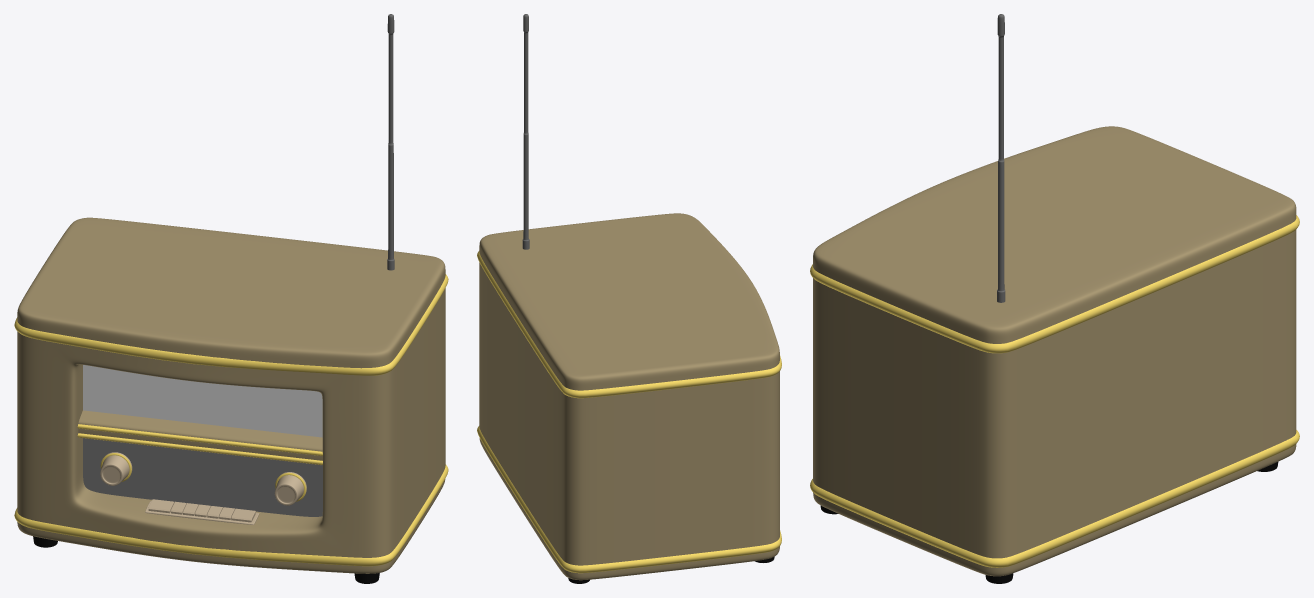
The model's file is RadioModelSketchfab.fbx.
3 renders of one model, left to right at view 1: azimuth 30°, elevation 25°; view 2: azimuth 150°, elevation 25°; view 3: azimuth 270°, elevation 25°, orthographic. The views are drawn at different scales.
Parts seen in each view (by area): view 1: mainbody, planeunten, planetop, mittelstange, ringoben, ringunten, Cylinder001, knöpfe, zierleistestange001, zierleistestange; view 2: mainbody, ringoben, ringunten, Cylinder001; view 3: mainbody, ringunten, ringoben, Cylinder001.
Boxes of the visible parts, bbox=[...] form: mainbody: bbox=[17, 217, 445, 573]; planeunten: bbox=[83, 438, 322, 516]; planetop: bbox=[83, 365, 322, 437]; mittelstange: bbox=[78, 410, 322, 465]; ringoben: bbox=[14, 274, 448, 375]; ringunten: bbox=[14, 464, 448, 566]; Cylinder001: bbox=[387, 14, 394, 270]; knöpfe: bbox=[100, 452, 306, 505]; zierleistestange001: bbox=[77, 424, 322, 455]; zierleistestange: bbox=[77, 433, 322, 464]; mainbody: bbox=[479, 213, 779, 580]; ringoben: bbox=[477, 251, 781, 398]; ringunten: bbox=[477, 426, 781, 573]; Cylinder001: bbox=[522, 14, 529, 249]; mainbody: bbox=[813, 126, 1296, 576]; ringunten: bbox=[810, 430, 1299, 567]; ringoben: bbox=[810, 215, 1299, 353]; Cylinder001: bbox=[997, 14, 1005, 302].
Size of the model in its own units: 44.41 by 54.8 by 44.39.
